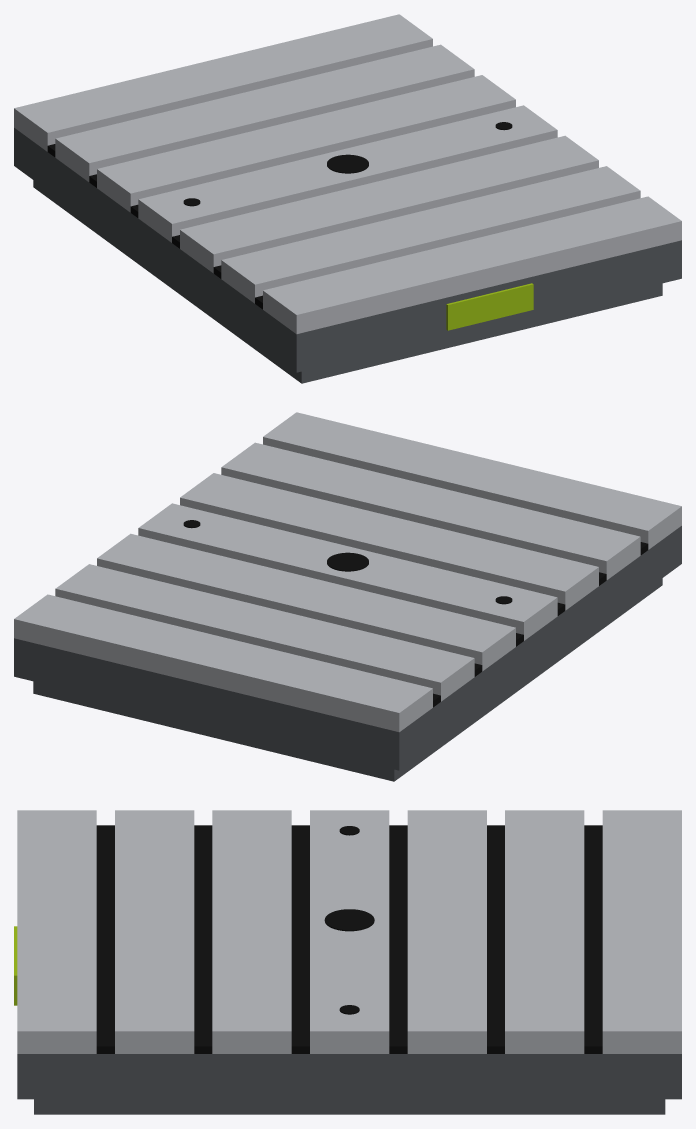
The model's file is pallet_630x800.glb.
The picture shows the model from 3 angles, top to bottom: view 1: azimuth 30°, elevation 25°; view 2: azimuth 150°, elevation 25°; view 3: azimuth 270°, elevation 25°; orthographic projection. The views are drawn at different scales.
Parts seen in each view (by area): view 1: pallet_body__steel, pallet_body__steel_dark, pallet_body__lime, pallet_body__rubber; view 2: pallet_body__steel, pallet_body__steel_dark, pallet_body__rubber; view 3: pallet_body__steel, pallet_body__steel_dark, pallet_body__rubber.
Part boxes in pixels (box(x1,y1,x2,y2)): pallet_body__steel: box(14, 14, 681, 334); pallet_body__steel_dark: box(14, 128, 681, 383); pallet_body__lime: box(446, 283, 533, 330); pallet_body__rubber: box(47, 122, 512, 309); pallet_body__steel: box(14, 412, 681, 732); pallet_body__steel_dark: box(14, 526, 681, 781); pallet_body__rubber: box(183, 520, 648, 707); pallet_body__steel: box(17, 810, 681, 1053); pallet_body__steel_dark: box(17, 1054, 681, 1114); pallet_body__rubber: box(96, 825, 602, 1053).
Size of the model in its own units: 0.63 by 0.1215 by 0.804.
